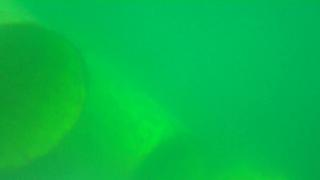pipe: (70, 50, 217, 179), (1, 1, 92, 171)
